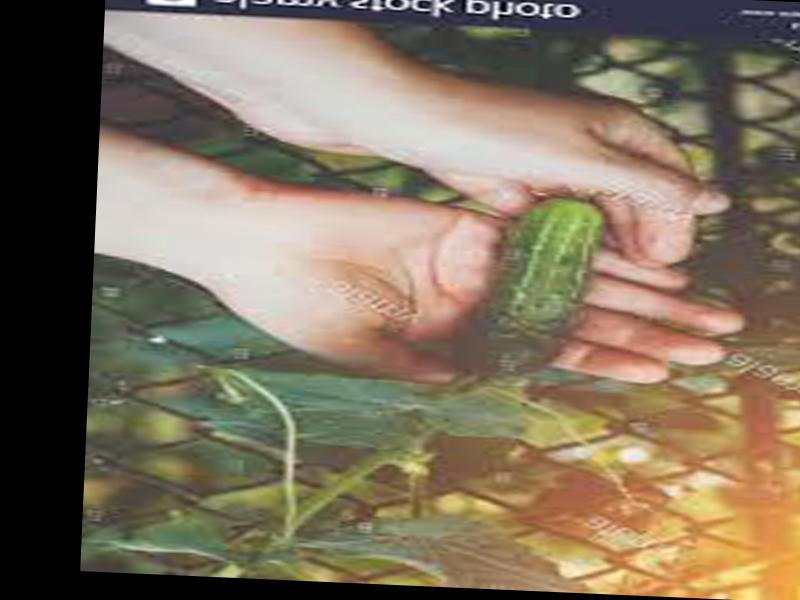Cucumber: (455, 191, 608, 380)
